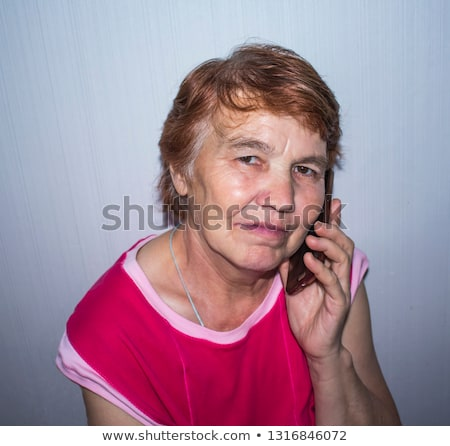phone: (288, 166, 337, 292)
talk: (198, 134, 355, 346)
